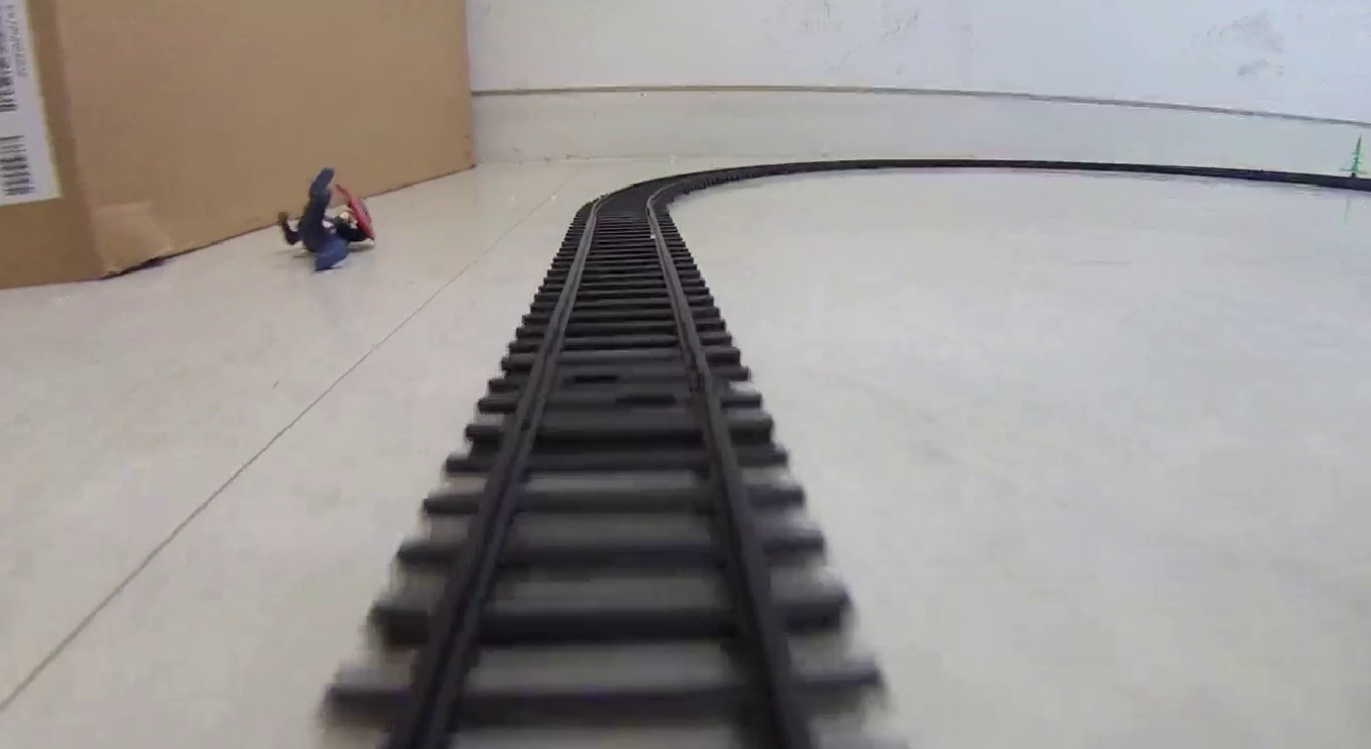people: (282, 169, 376, 276)
